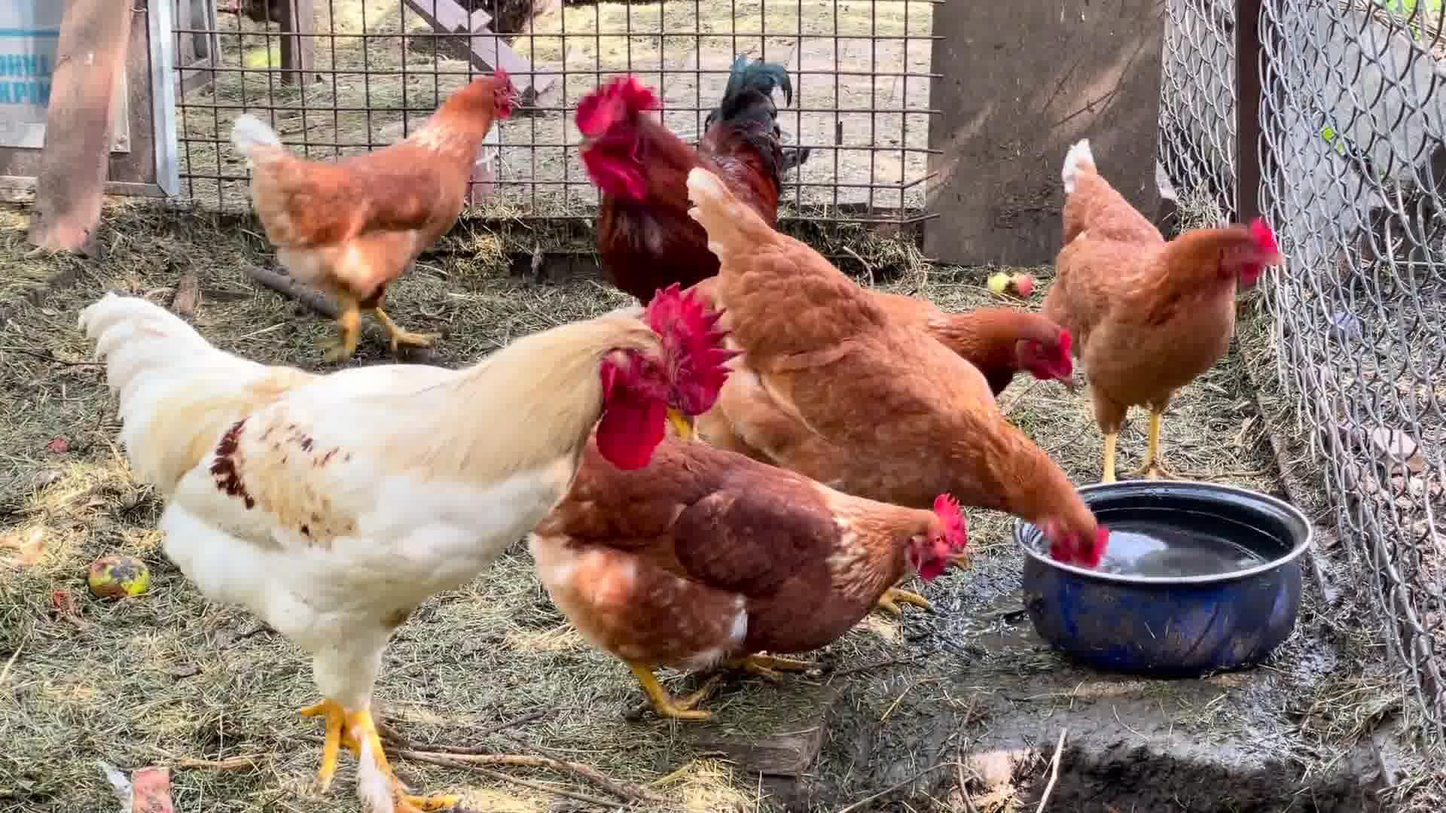Normal: (55, 269, 737, 813), (688, 158, 1143, 571), (605, 405, 954, 724), (200, 61, 530, 360), (1064, 130, 1290, 508), (571, 55, 798, 283), (925, 247, 1066, 386)
